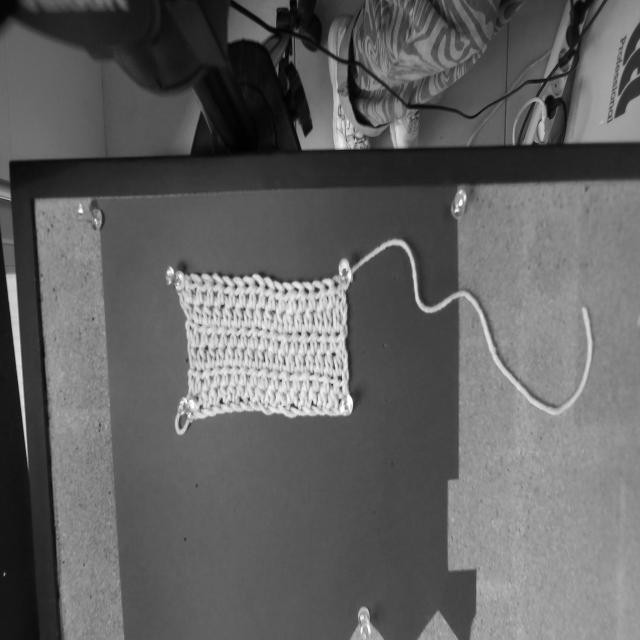ch: (259, 402, 274, 415), (278, 406, 296, 416), (289, 406, 306, 416), (321, 406, 335, 416), (313, 405, 325, 416), (230, 403, 244, 412), (249, 401, 261, 411), (201, 408, 216, 416), (240, 403, 253, 411), (303, 406, 316, 414), (221, 405, 234, 412), (212, 405, 225, 412), (331, 407, 341, 416), (269, 407, 281, 414), (196, 412, 207, 418)
hdc: (251, 273, 266, 310), (282, 282, 297, 316), (243, 276, 257, 311), (201, 273, 215, 307), (321, 279, 336, 309), (302, 281, 316, 312), (313, 280, 327, 311), (212, 274, 225, 307), (233, 277, 246, 310), (292, 282, 306, 312), (264, 276, 276, 311), (206, 319, 219, 350), (191, 274, 204, 305), (223, 276, 235, 309), (306, 324, 318, 356), (273, 281, 285, 313), (257, 361, 270, 389), (278, 365, 290, 395), (287, 325, 299, 355), (267, 325, 279, 355), (246, 321, 258, 351), (288, 366, 301, 393), (330, 275, 344, 300), (267, 363, 279, 392), (317, 325, 329, 354), (277, 327, 289, 356), (236, 319, 247, 350), (212, 296, 223, 327), (232, 298, 243, 329), (297, 384, 310, 410), (309, 365, 321, 393), (210, 361, 222, 389), (314, 346, 325, 376), (257, 321, 268, 351), (217, 319, 228, 349), (183, 275, 194, 305), (223, 295, 233, 328), (273, 301, 283, 334), (273, 383, 286, 408), (318, 367, 330, 394), (228, 358, 239, 387), (314, 300, 323, 335), (201, 362, 211, 393), (297, 325, 307, 356), (227, 321, 237, 352), (247, 360, 258, 388), (197, 337, 206, 371), (323, 301, 332, 335), (286, 383, 298, 408), (283, 303, 293, 333), (252, 381, 265, 404), (299, 366, 310, 393), (303, 306, 314, 333), (219, 359, 229, 388), (254, 341, 264, 370), (187, 340, 197, 369), (243, 299, 253, 328), (263, 301, 273, 330), (326, 387, 339, 409), (329, 369, 340, 395), (324, 349, 334, 377), (336, 323, 346, 351), (199, 318, 209, 346), (202, 299, 212, 327), (192, 296, 202, 324), (253, 301, 263, 329), (264, 382, 275, 407), (207, 380, 217, 407), (193, 363, 202, 393), (207, 339, 216, 369), (327, 325, 337, 352), (235, 339, 244, 368), (265, 342, 274, 371), (238, 360, 248, 386), (333, 350, 343, 376), (333, 295, 340, 332), (317, 385, 328, 408), (245, 341, 254, 369), (216, 380, 226, 405), (225, 340, 234, 367), (294, 306, 303, 333), (226, 379, 236, 403), (285, 350, 295, 374), (295, 347, 304, 373), (305, 347, 314, 373), (183, 298, 193, 321), (244, 378, 253, 403), (199, 381, 207, 409), (308, 385, 318, 407), (216, 341, 224, 368), (275, 348, 284, 372), (339, 370, 347, 395), (191, 323, 199, 348), (236, 379, 244, 403)
